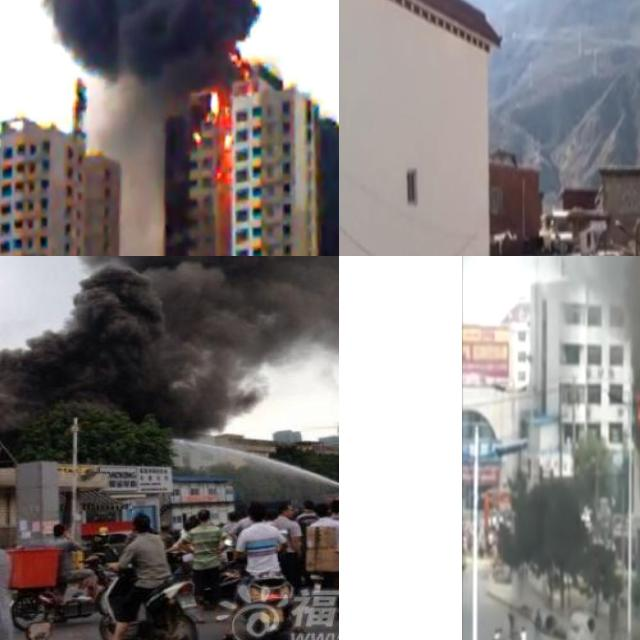fire: (232, 44, 254, 78), (207, 88, 220, 118), (220, 129, 232, 150), (190, 125, 202, 143)
smoke: (0, 256, 339, 437), (460, 256, 640, 497), (43, 0, 250, 73)
